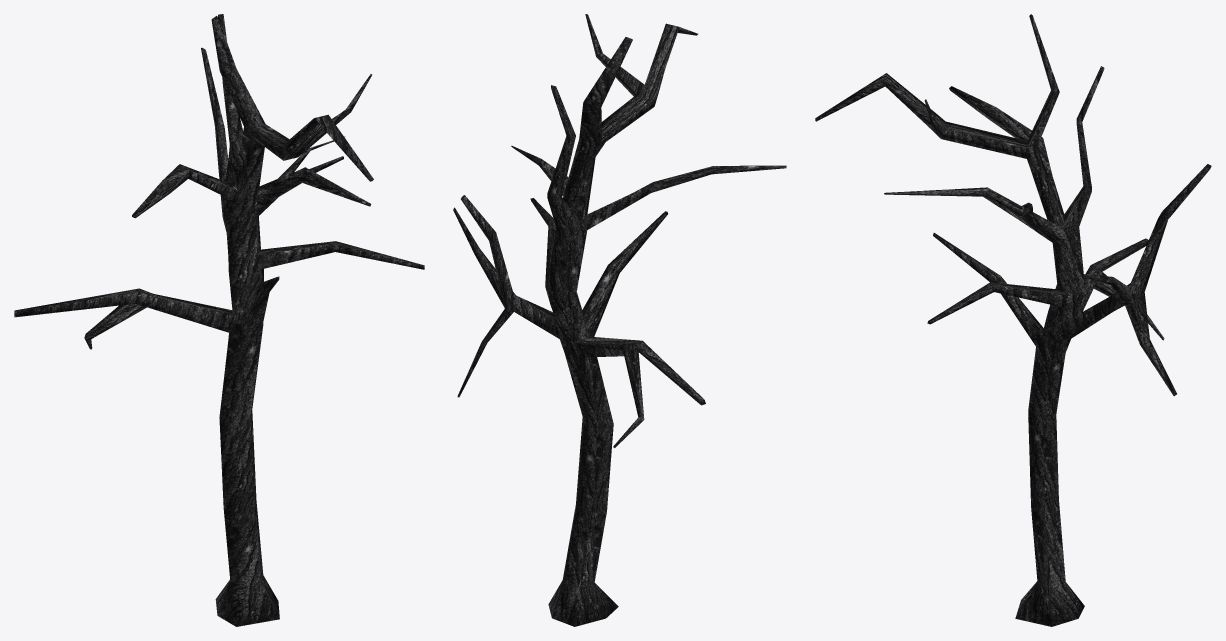
File: tree1.fbx
3 renders of one model, left to right at view 1: azimuth 30°, elevation 25°; view 2: azimuth 150°, elevation 25°; view 3: azimuth 270°, elevation 25°, orthographic. The views are drawn at different scales.
Visible parts, largest first — view 1: Cube; view 2: Cube; view 3: Cube.
Boxes of the visible parts, x1=… form: Cube: x1=14, y1=14, x2=424, y2=626; Cube: x1=453, y1=14, x2=786, y2=626; Cube: x1=815, y1=14, x2=1211, y2=626.
Size of the model in its own units: 1220 by 2385 by 1481.
